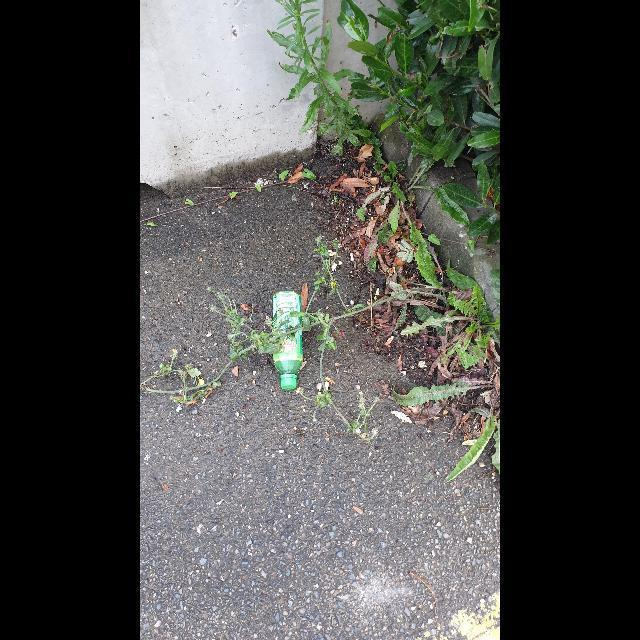Plastic: (273, 291, 303, 389), (281, 377, 297, 389)
